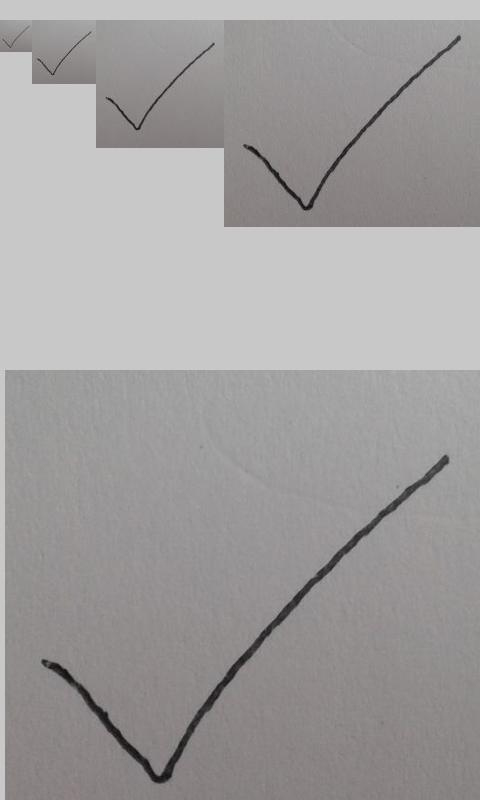check_box: (40, 458, 451, 785), (245, 36, 461, 211), (106, 43, 214, 130), (37, 31, 91, 76), (2, 26, 29, 48)
